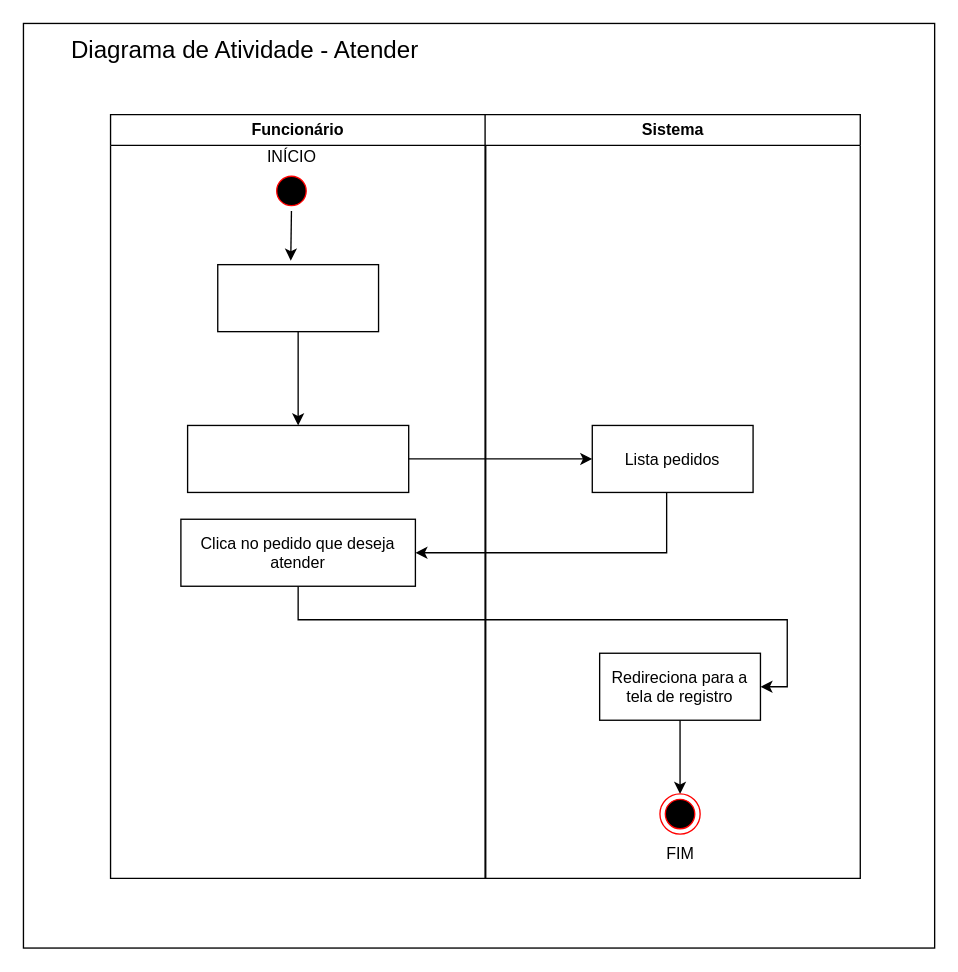
Some shapes in this 958 by 972 pixel diagram are drawn without their labels. Each missing label, with the centre of its shape:
"Entra na tela de atendimento" belongs at [297,458].
"Faz login" belongs at [297,297].
